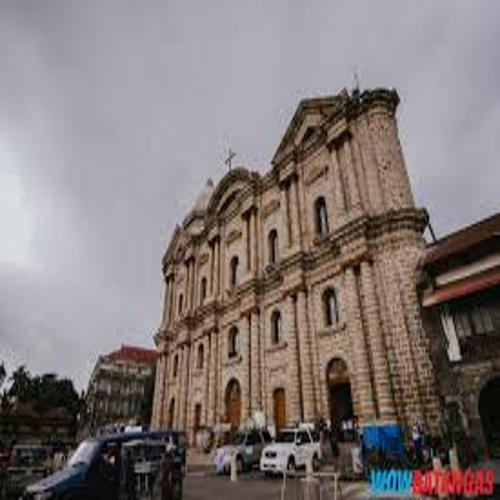Taal Basilica Church: (138, 61, 450, 467)
